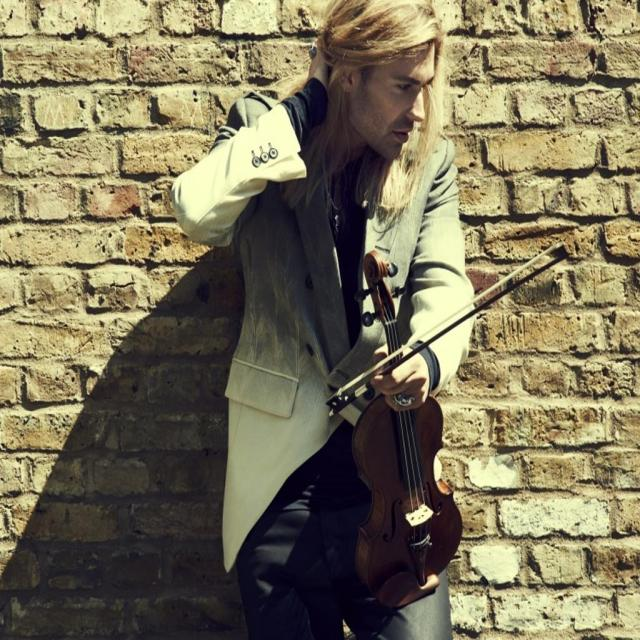nomask: (362, 41, 433, 158)
